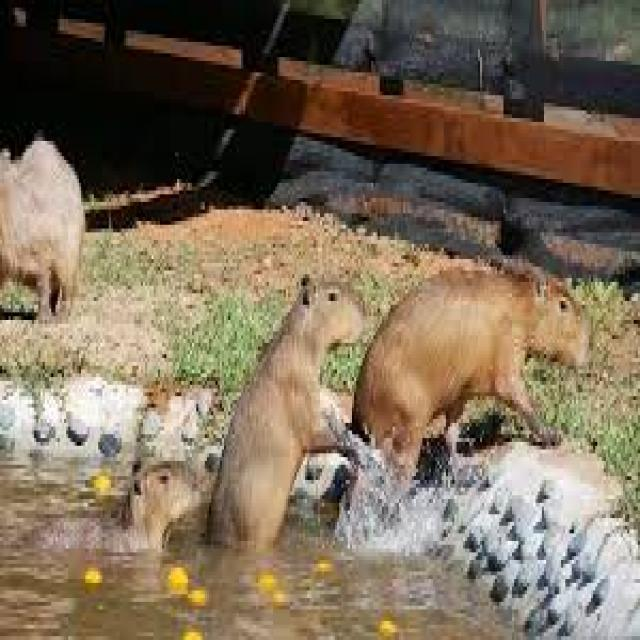capy: (207, 262, 367, 568), (355, 254, 595, 454), (35, 449, 202, 556), (0, 134, 86, 322)
